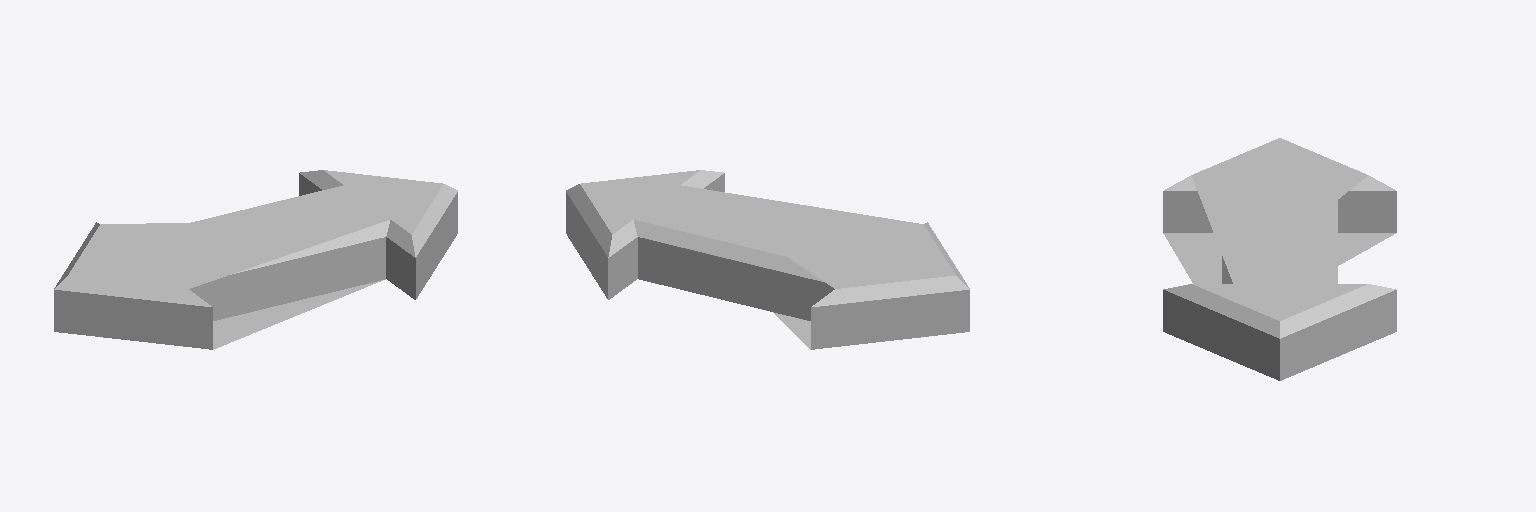
The model's file is DArrow.obj.
3 renders of one model, left to right at view 1: azimuth 30°, elevation 25°; view 2: azimuth 150°, elevation 25°; view 3: azimuth 270°, elevation 25°, orthographic.
Parts seen in each view (by area): view 1: Plane; view 2: Plane; view 3: Plane.
Part boxes in pixels (x1,y1,x2,y2): Plane: (54, 170, 457, 349); Plane: (566, 170, 969, 349); Plane: (1163, 138, 1396, 380).
Size of the model in its own units: 4 by 0.5 by 2.